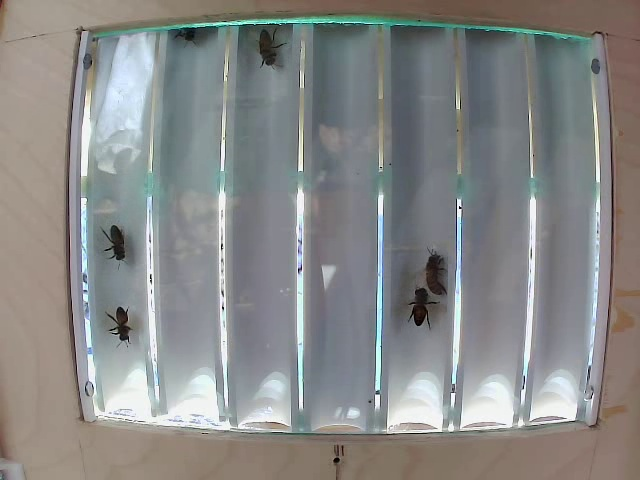bee: (102, 219, 145, 264), (422, 240, 453, 297), (106, 310, 141, 355), (399, 284, 433, 328), (255, 19, 281, 74)
